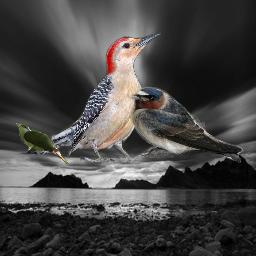Cuckoo: (15, 123, 69, 164)
Swallow: (127, 86, 244, 163)
Woodpecker: (18, 30, 164, 164)
